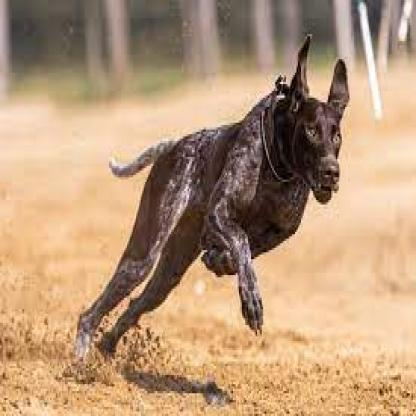dog: (64, 15, 386, 374)
